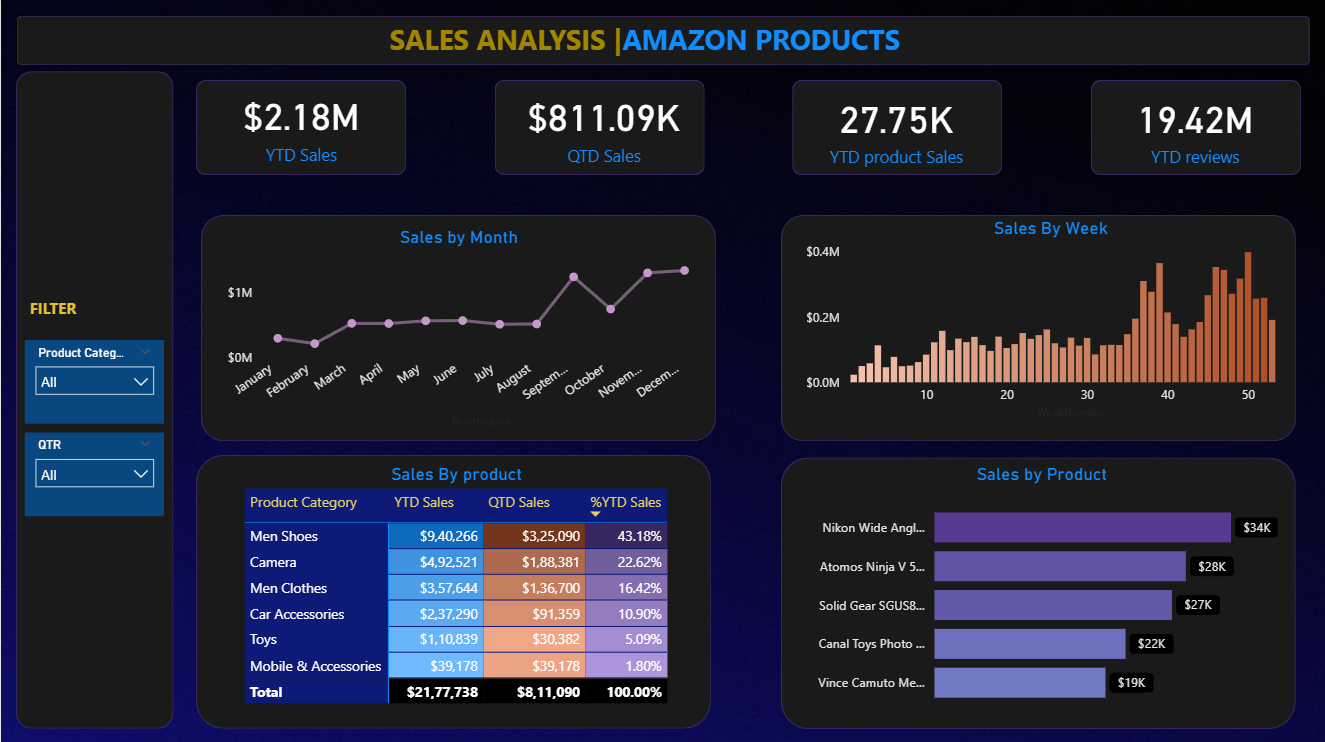

Layout of this report page (visuals, bound fields, positions):
{"tool":"powerbi","page":{"name":"Page 1","canvas":[1280,720],"ordinal":0},"visuals":[{"type":"shape","box":[188.2,77.2,202.7,91.7],"z":0,"group":"g1"},{"type":"shape","box":[14.5,14.5,1249.9,49.5],"z":0},{"type":"card","fields":{"Values":["Amazon_Data.YTD Sales"]},"box":[193,77.2,194.2,86.9],"z":1000,"group":"g1"},{"type":"textbox","box":[51.9,14.5,1138.9,49.5],"z":1000},{"type":"shape","box":[476.1,77.2,202.7,91.7],"z":2000,"group":"g1"},{"type":"shape","box":[15.1,78.2,152.3,635.3],"z":2000},{"type":"shape","box":[764.1,77.2,202.7,91.7],"z":3000,"group":"g1"},{"type":"group","id":"g1","title":"Group 1","box":[188.2,77.2,1066.5,91.7],"z":3000},{"type":"shape","box":[1052,77.2,202.7,91.7],"z":4000,"group":"g1"},{"type":"shape","box":[193,207.5,497.1,218.4],"z":4000},{"type":"card","fields":{"Values":["Amazon_Data.QTD Sales"]},"box":[484.7,78.1,194.2,86.9],"z":5000,"group":"g1"},{"type":"lineChart","title":"Sales by Month","fields":{"Category":["calendar.Monthname"],"Y":["Sum(Amazon_Data.Price(Dollar))"]},"box":[205.1,218.4,474.1,199.1],"z":5000},{"type":"card","fields":{"Values":["Amazon_Data.YTD product"]},"box":[767.3,79.6,194.2,86.9],"z":6000,"group":"g1"},{"type":"shape","box":[752.8,207.5,497.1,218.4],"z":6000},{"type":"card","fields":{"Values":["Amazon_Data.YTD reviews"]},"box":[1055.6,79.6,194.2,86.9],"z":7000,"group":"g1"},{"type":"columnChart","title":"Sales By Week","fields":{"Category":["calendar.WeekNumber"],"Y":["Sum(Amazon_Data.Price(Dollar))"]},"box":[772.1,209.9,482.6,199.1],"z":7000},{"type":"shape","box":[188.2,439.1,497.1,264.2],"z":8000},{"type":"pivotTable","title":"Sales By product","fields":{"Rows":["Amazon_Data.Product Category"],"Values":["Amazon_Data.YTD Sales1","Amazon_Data.QTD Sales","Amazon_Data.YTD Sales"]},"box":[230.4,447.6,418.6,242.5],"z":9000},{"type":"shape","box":[753.3,441.9,496.7,262.1],"z":10000},{"type":"clusteredBarChart","title":"Sales by Product","fields":{"Category":["Amazon_Data.Product Description"],"Y":["Amazon_Data.YTD Sales"]},"box":[772.6,447.3,465.2,247],"z":11000},{"type":"slicer","fields":{"Values":["Amazon_Data.Product Category"]},"box":[23.3,328,134.5,81],"z":12000},{"type":"slicer","fields":{"Values":["calendar.QTR"]},"box":[23.3,417.2,134.5,81],"z":13000},{"type":"textbox","box":[23.3,282.7,105.7,34.3],"z":14000}]}

Visuals, with their boxes in screenshot pixels (x1, y1, x2, y2), scaled from the page's 1280x720 canvas onto the 1325x742 screenshot:
shape: 195 80 405 174
shape: 15 15 1309 66
card - Amazon_Data.YTD Sales: 200 80 401 169
textbox: 54 15 1233 66
shape: 493 80 703 174
shape: 16 81 173 735
shape: 791 80 1001 174
"Group 1" group: 195 80 1299 174
shape: 1089 80 1299 174
shape: 200 214 714 439
card - Amazon_Data.QTD Sales: 502 80 703 170
"Sales by Month" lineChart: 212 225 703 430
card - Amazon_Data.YTD product: 794 82 995 172
shape: 779 214 1294 439
card - Amazon_Data.YTD reviews: 1093 82 1294 172
"Sales By Week" columnChart: 799 216 1299 421
shape: 195 453 709 725
"Sales By product" pivotTable: 238 461 672 711
shape: 780 455 1294 726
"Sales by Product" clusteredBarChart: 800 461 1281 716
slicer - Amazon_Data.Product Category: 24 338 163 421
slicer - calendar.QTR: 24 430 163 513
textbox: 24 291 134 327
